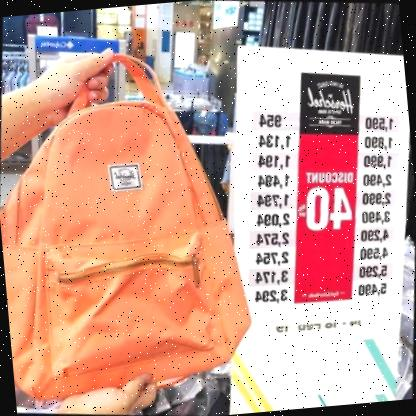bag: (0, 36, 257, 411)
